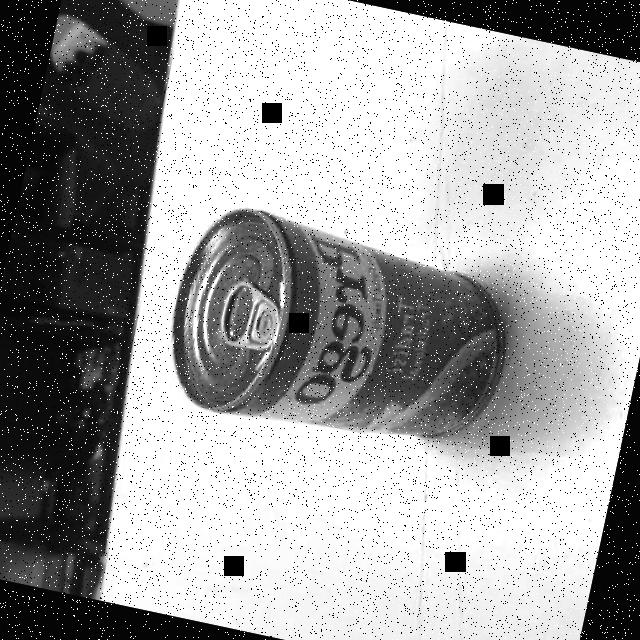can: (154, 198, 527, 472)
